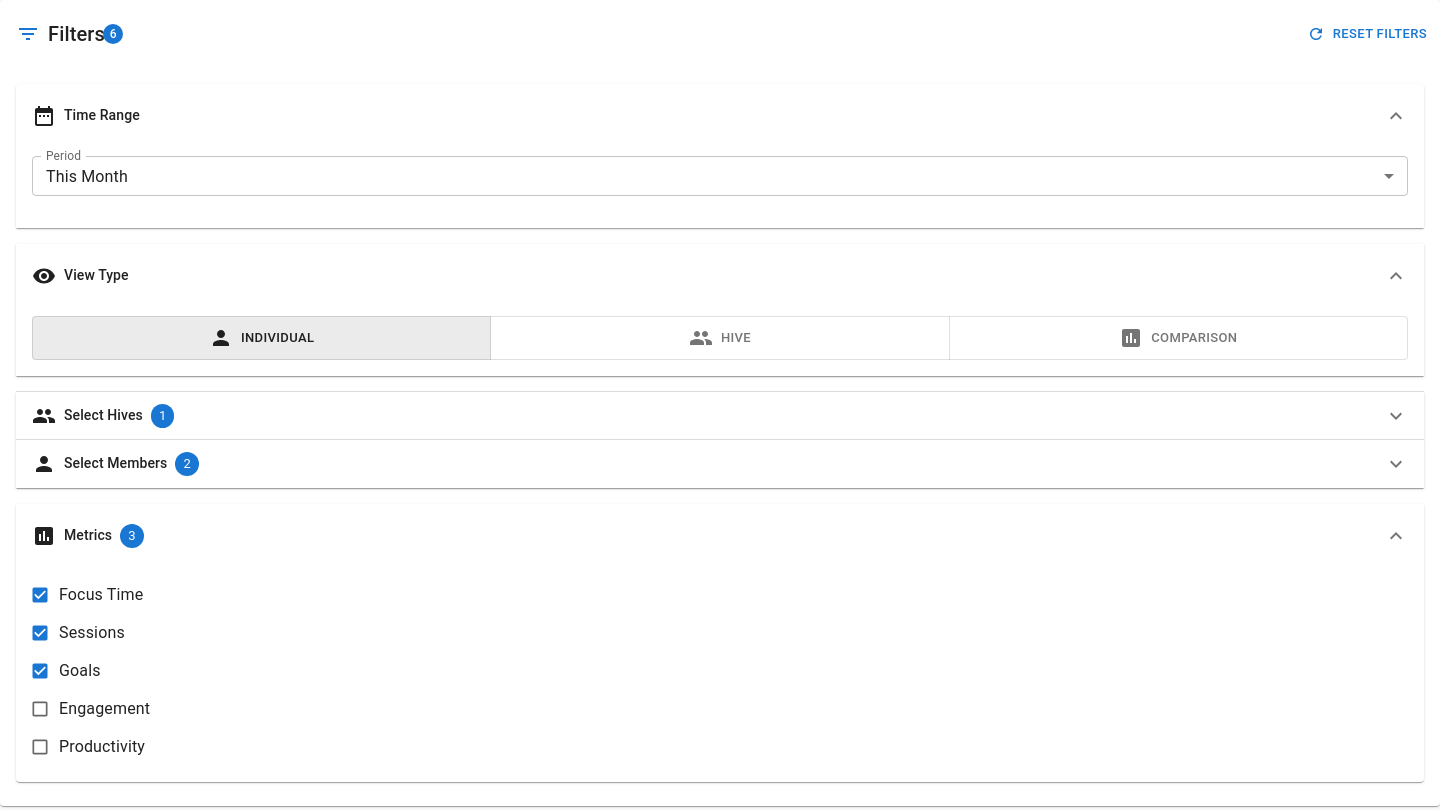
it: AnalyticsFilters › shows predefined time range options
The image size is (1440, 810).
// Find the select by finding the element with the current value 'month'
Press the mouse on the dropdown at (87, 176), box [46, 166, 128, 186]
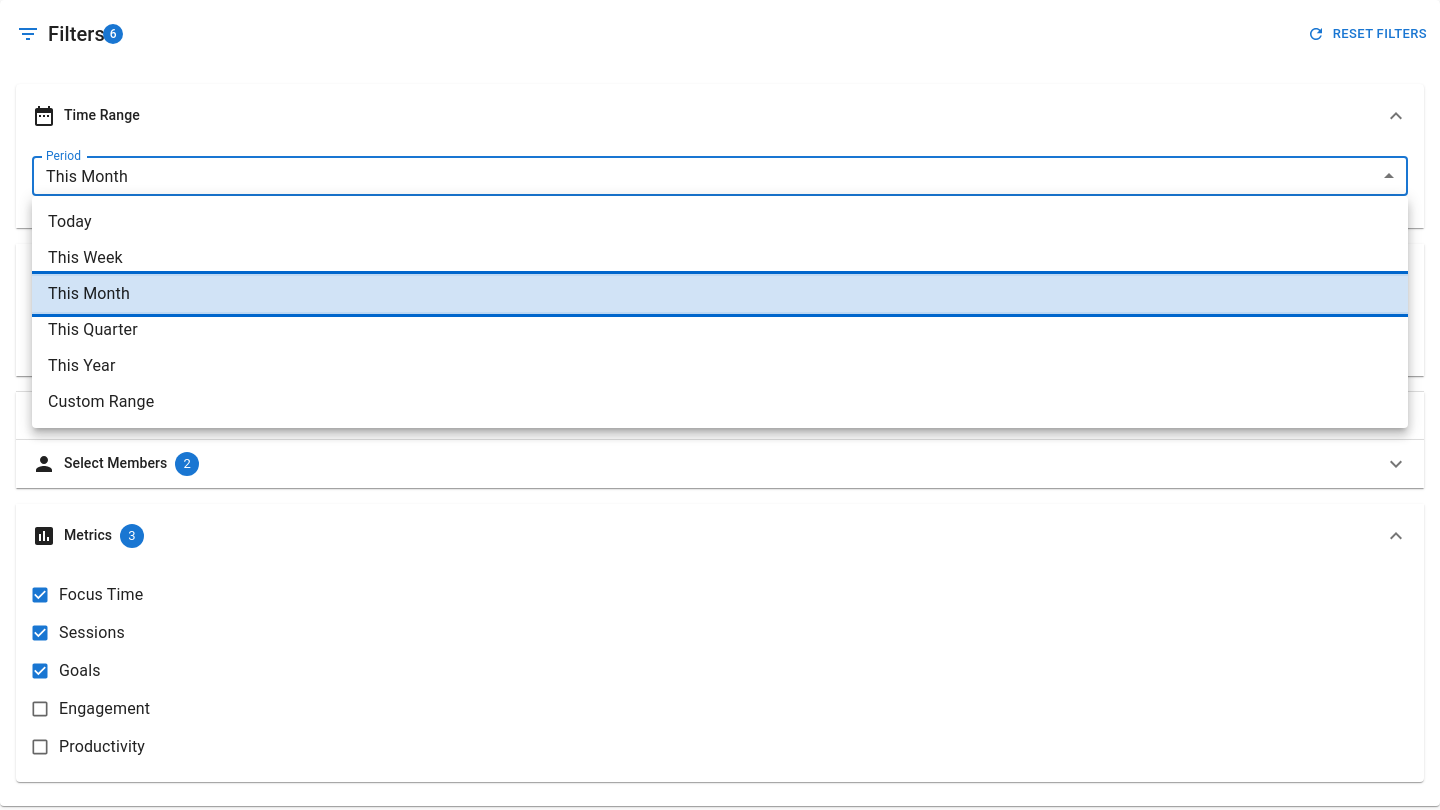
Expected: the option "Today" is shown, [48, 212, 92, 231]
Expected: the option "This Week" is shown, [48, 248, 123, 267]
Expected: the option "This Month" is shown, [32, 276, 1408, 312]
